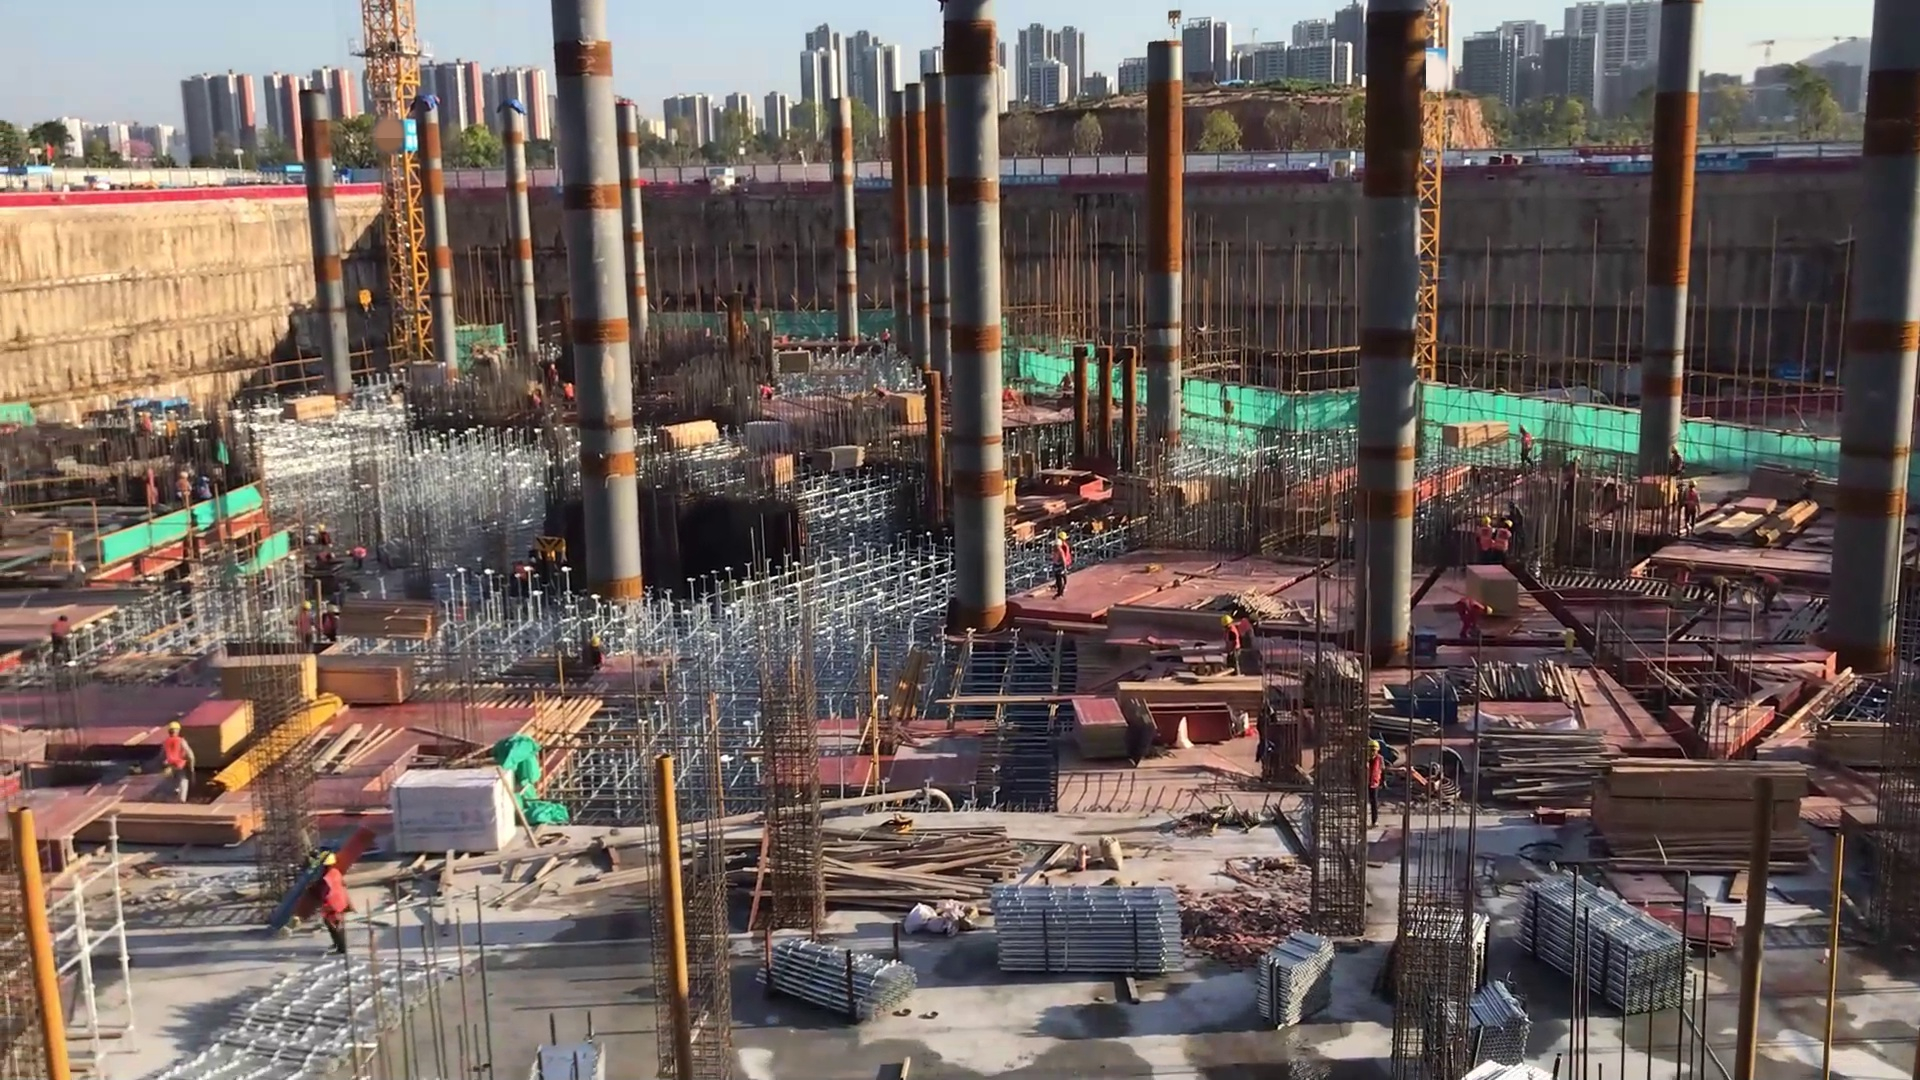board: (1633, 897, 1741, 963), (217, 652, 321, 718), (311, 648, 416, 709), (181, 692, 255, 771), (333, 598, 439, 645), (1070, 693, 1137, 765), (1438, 417, 1509, 456), (657, 417, 726, 456), (814, 441, 872, 475)
ebox: (51, 526, 80, 580)
helmet: (316, 851, 340, 872), (166, 719, 187, 733), (1365, 739, 1382, 751), (1048, 539, 1065, 552), (1221, 611, 1233, 629), (1481, 512, 1491, 529), (179, 468, 190, 481), (1247, 612, 1259, 622), (1485, 602, 1494, 616), (300, 600, 312, 609), (1504, 519, 1515, 529), (1060, 531, 1069, 541)
hook: (1391, 680, 1462, 721), (351, 282, 379, 326)
person: (310, 851, 358, 969), (164, 711, 195, 809), (1363, 739, 1385, 831), (1451, 594, 1492, 640), (1219, 606, 1243, 679), (49, 614, 74, 674), (1043, 538, 1067, 599), (890, 391, 927, 427), (1680, 478, 1702, 536), (1226, 609, 1263, 643), (295, 599, 315, 654), (1518, 421, 1537, 473), (198, 477, 220, 522), (1494, 516, 1513, 568), (1476, 512, 1493, 567), (173, 467, 192, 511), (1665, 440, 1689, 478), (322, 600, 340, 647), (344, 542, 368, 571), (1060, 530, 1073, 580), (547, 361, 560, 397), (870, 384, 892, 405), (759, 380, 776, 401), (563, 380, 575, 403), (881, 326, 892, 349)
scaffold: (1526, 869, 1704, 1032), (1004, 884, 1191, 988), (754, 938, 927, 1027), (1248, 917, 1351, 1031), (1432, 978, 1534, 1080)
slogan: (1615, 159, 1743, 174), (998, 167, 1062, 195), (851, 177, 902, 201)
vest: (315, 871, 353, 924), (165, 733, 192, 775), (1363, 752, 1382, 788), (49, 620, 72, 644), (1461, 598, 1483, 620), (1496, 527, 1512, 556), (1479, 525, 1494, 557), (1684, 489, 1701, 515), (1225, 626, 1240, 654)
wood: (1597, 754, 1804, 881), (824, 819, 1014, 917), (1474, 718, 1616, 812), (102, 804, 255, 848), (1115, 677, 1271, 715), (273, 391, 347, 440)
